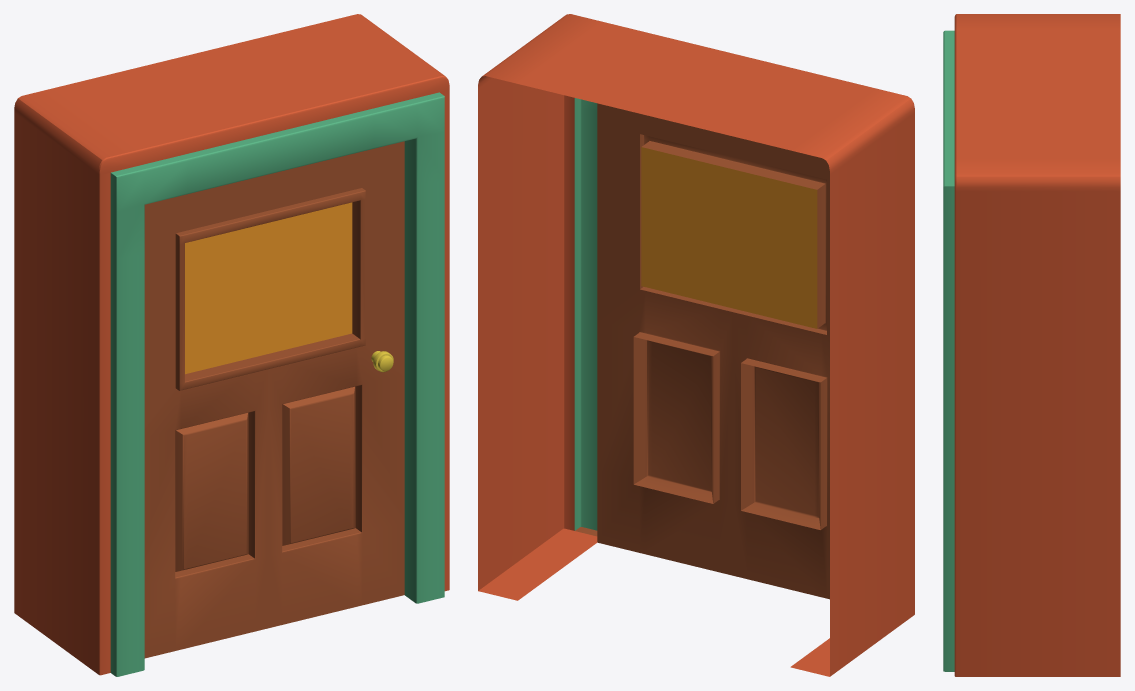
File: italian_door.fbx
The picture shows the model from 3 angles, left to right: view 1: azimuth 30°, elevation 25°; view 2: azimuth 150°, elevation 25°; view 3: azimuth 270°, elevation 25°; orthographic projection. The views are drawn at different scales.
Visible parts, largest first — view 1: Cylinder; view 2: Cylinder; view 3: Cylinder.
Boxes of the visible parts, box(x1,y1,x2,y2) form: Cylinder: box(14, 14, 449, 676); Cylinder: box(478, 14, 914, 676); Cylinder: box(943, 14, 1120, 676).
Bounding box in the file's own units: 67.46 × 94.71 × 30.47.
